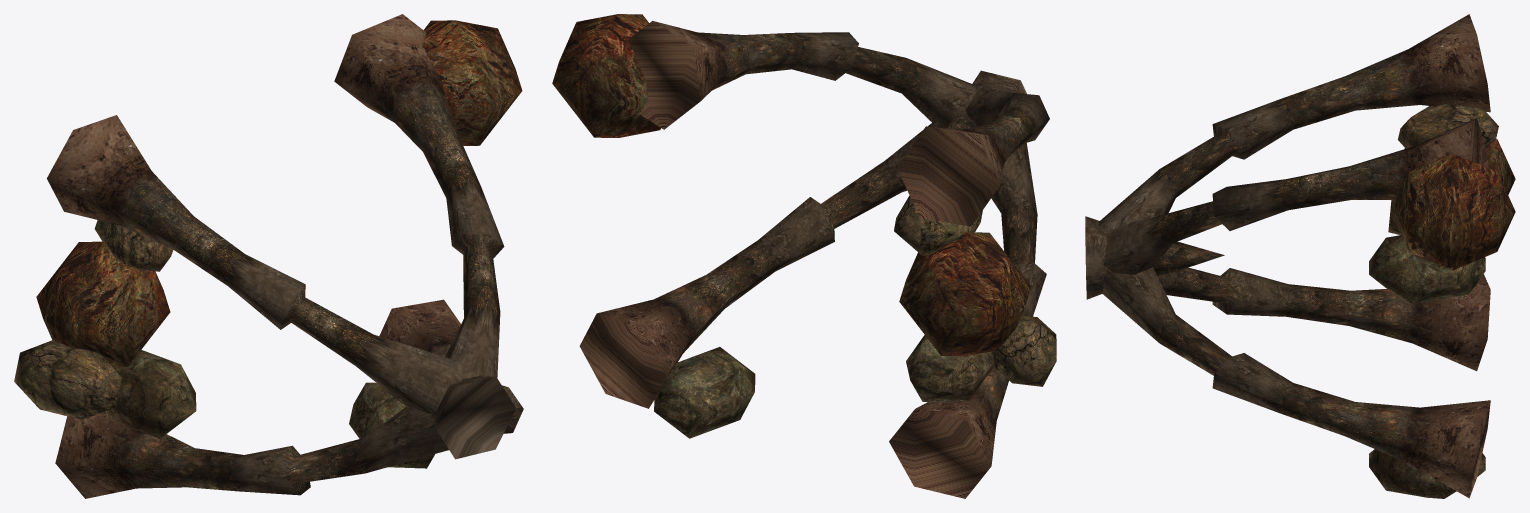
File: rock-pillar_01.obj
3 views of the same model, side by side, from view 1: azimuth 30°, elevation 25°; view 2: azimuth 150°, elevation 25°; view 3: azimuth 270°, elevation 25° (orthographic). The views are drawn at different scales.
Visible parts, largest first — view 1: (null); view 2: (null); view 3: (null).
Boxes of the visible parts, box(x1,y1,x2,y2) form: (null): box(14, 14, 523, 498); (null): box(552, 14, 1056, 498); (null): box(1085, 14, 1515, 498).
Size of the model in its own units: 13.26 by 10.84 by 11.01.
